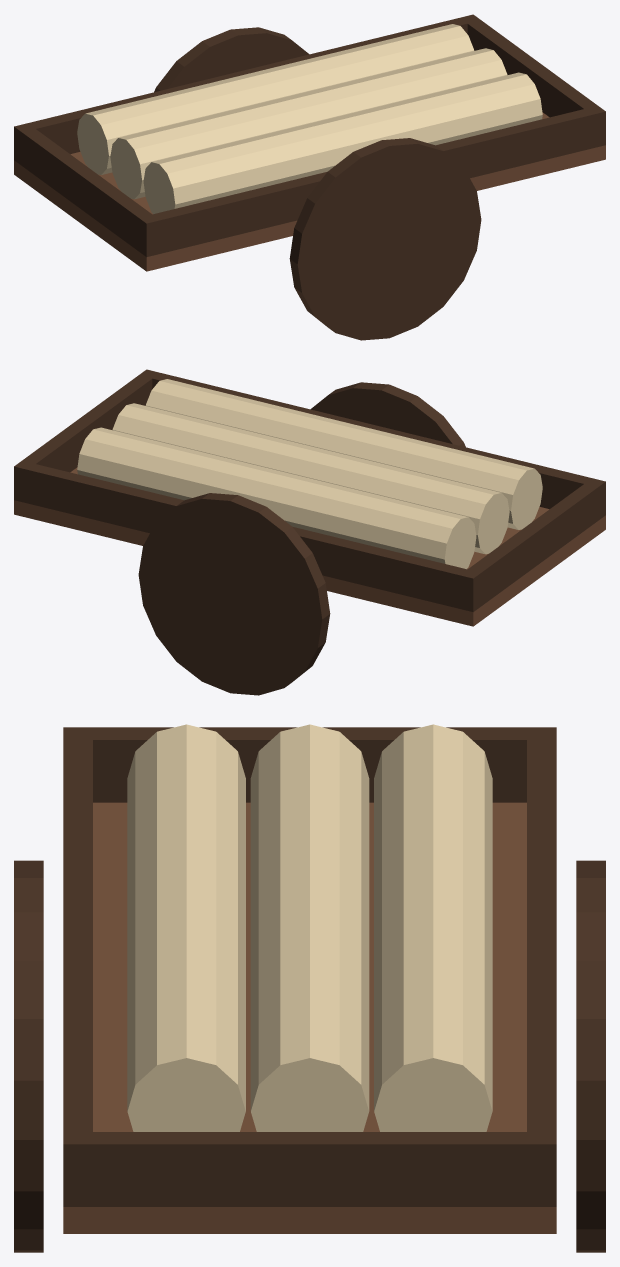
Rendered from prop_cart.glb.
The picture shows the model from 3 angles, top to bottom: view 1: azimuth 30°, elevation 25°; view 2: azimuth 150°, elevation 25°; view 3: azimuth 270°, elevation 25°; orthographic projection. The views are drawn at different scales.
Visible parts, largest first — view 1: PROP_Cart; view 2: PROP_Cart; view 3: PROP_Cart.
Part boxes in pixels (x1,y1,x2,y2): PROP_Cart: (14, 14, 605, 340); PROP_Cart: (14, 369, 605, 695); PROP_Cart: (14, 724, 605, 1252).
Size of the model in its own units: 2 by 0.8 by 1.2.
